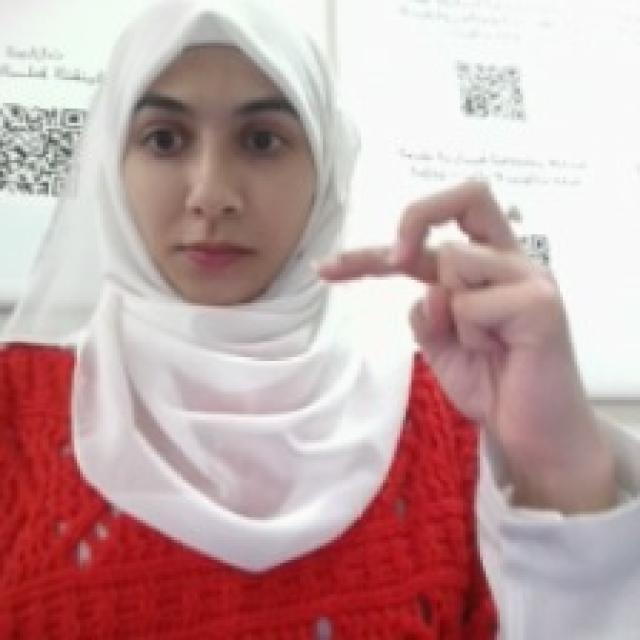sunday: (303, 166, 574, 420)
